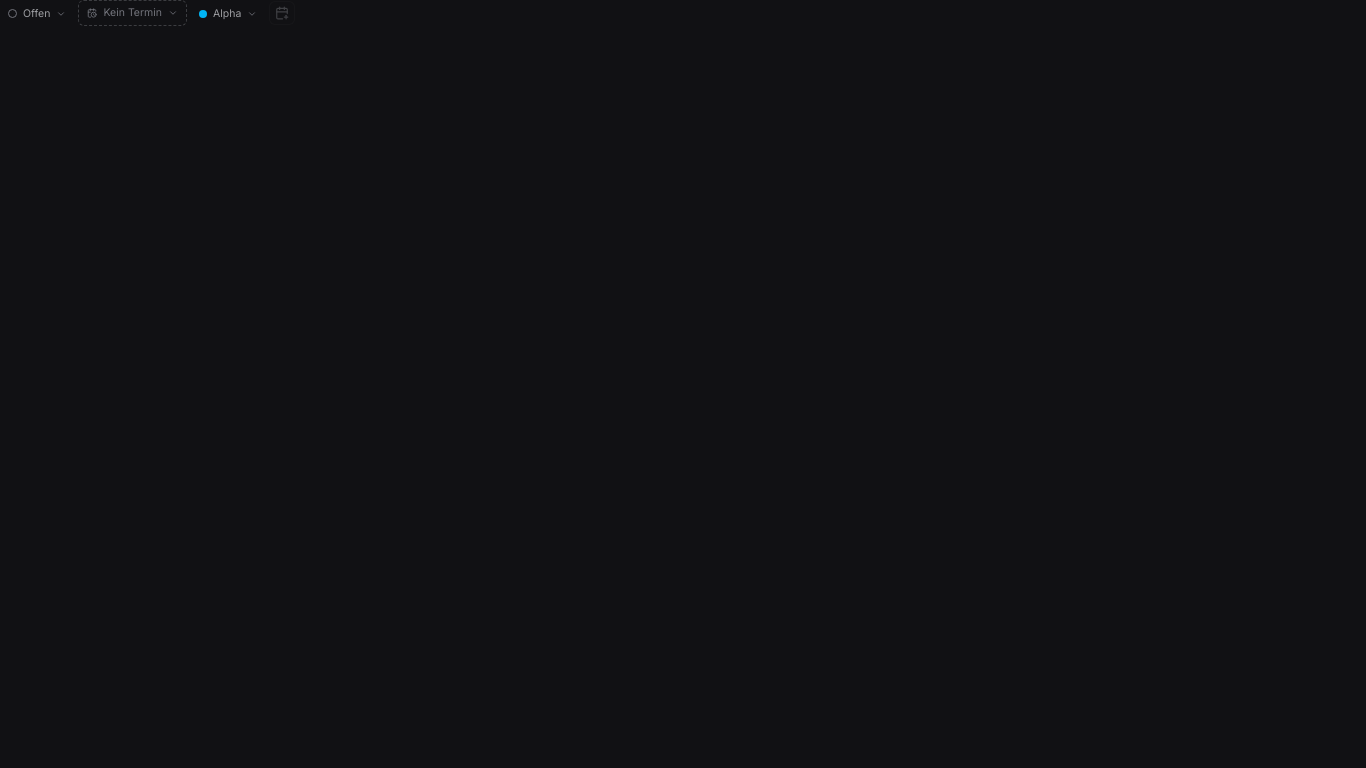
it: SlotChip — Uhrzeit-Defaults beim Datum-Wählen › picking a FUTURE date with empty time defaults to 09:00 local + 30 min
This screenshot has width=1366, height=768.
Click the button "Kein Termin" at (133,13), box [78,0,187,26]
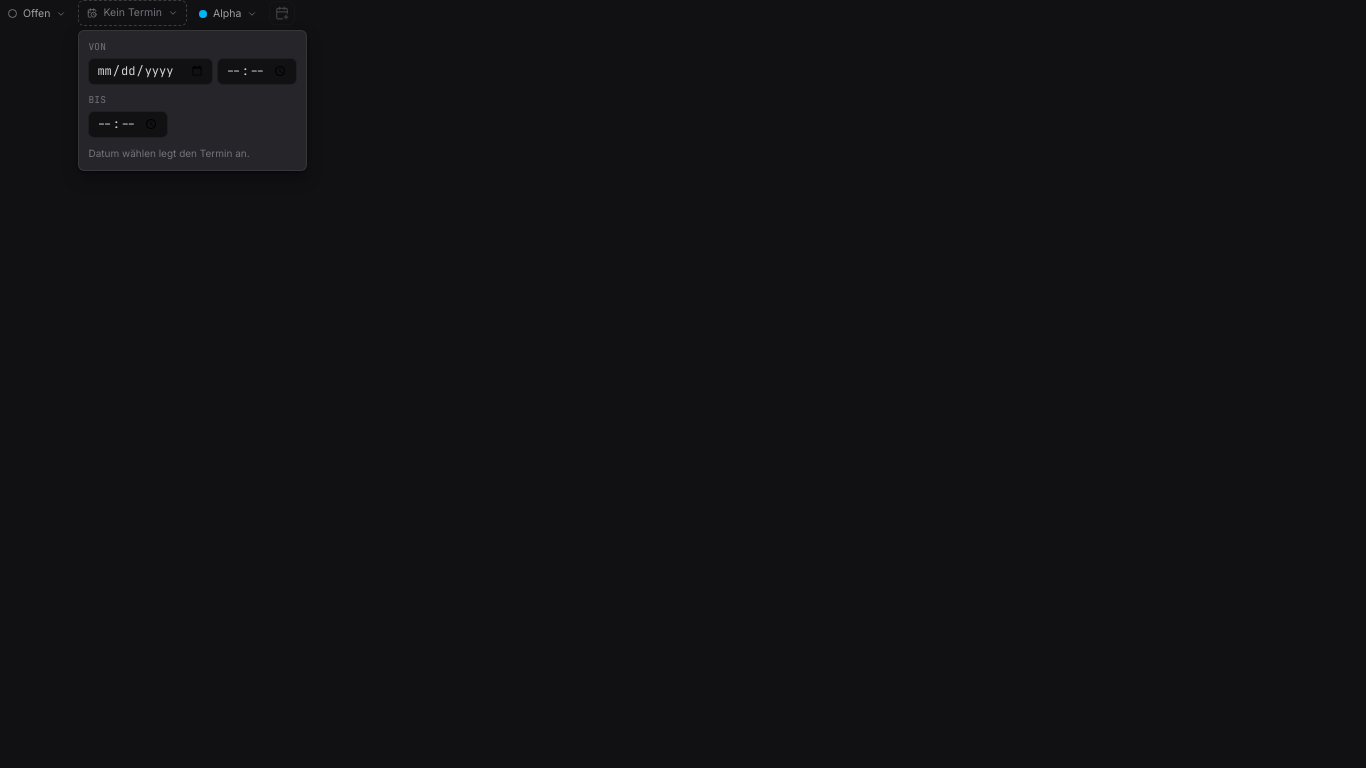
Type "2026-06-10" into the date field at (151,71), box [88,58,213,85]
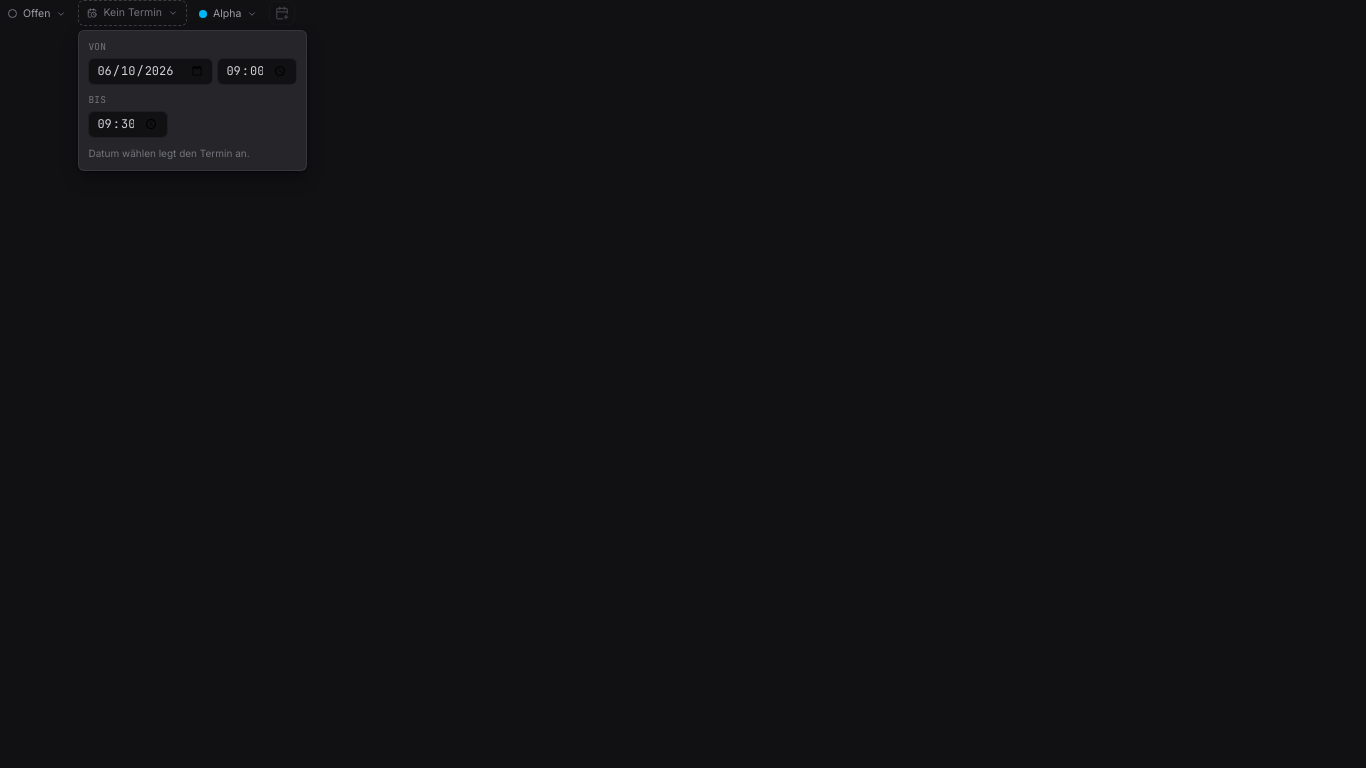
Expected: the time field below "Von" holds "09:00", [217,58,297,85]
Expected: the time field below "Bis" holds "09:30", [88,111,168,138]
